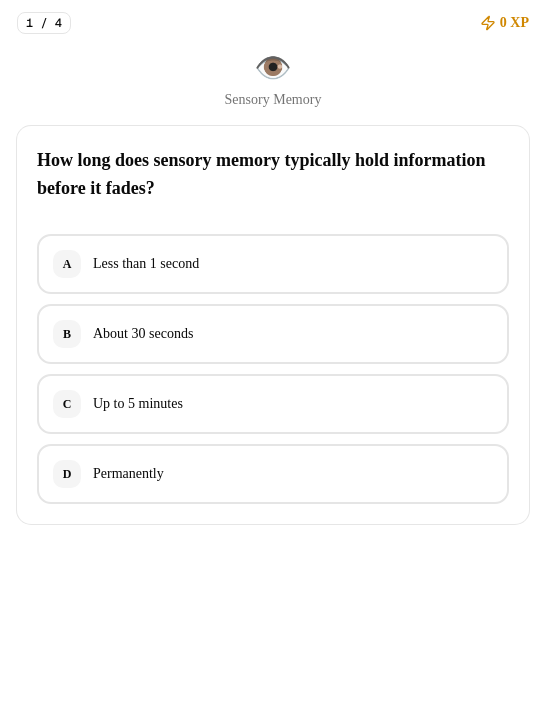
QuizView Component › shows continue button after correct answer
Click the text "Less than 1 second".
click(146, 264)  # box left=93, top=256, right=199, bottom=271
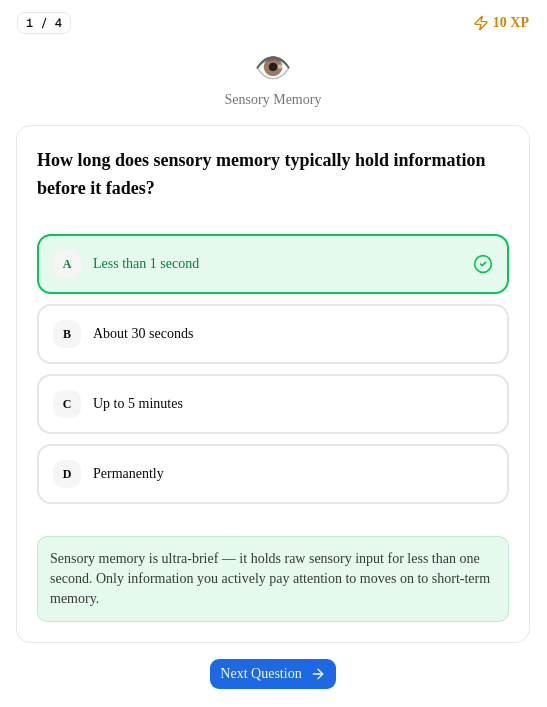
Result: the button "Next Question" is shown at left=209, top=658, right=337, bottom=690
